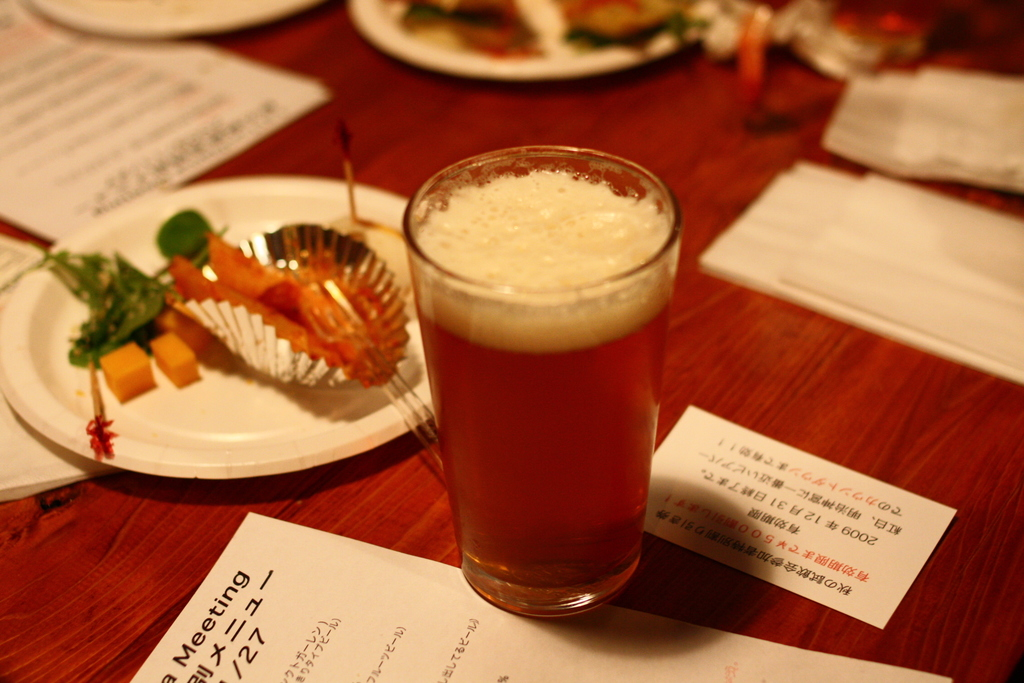Beer: (408, 166, 682, 618)
